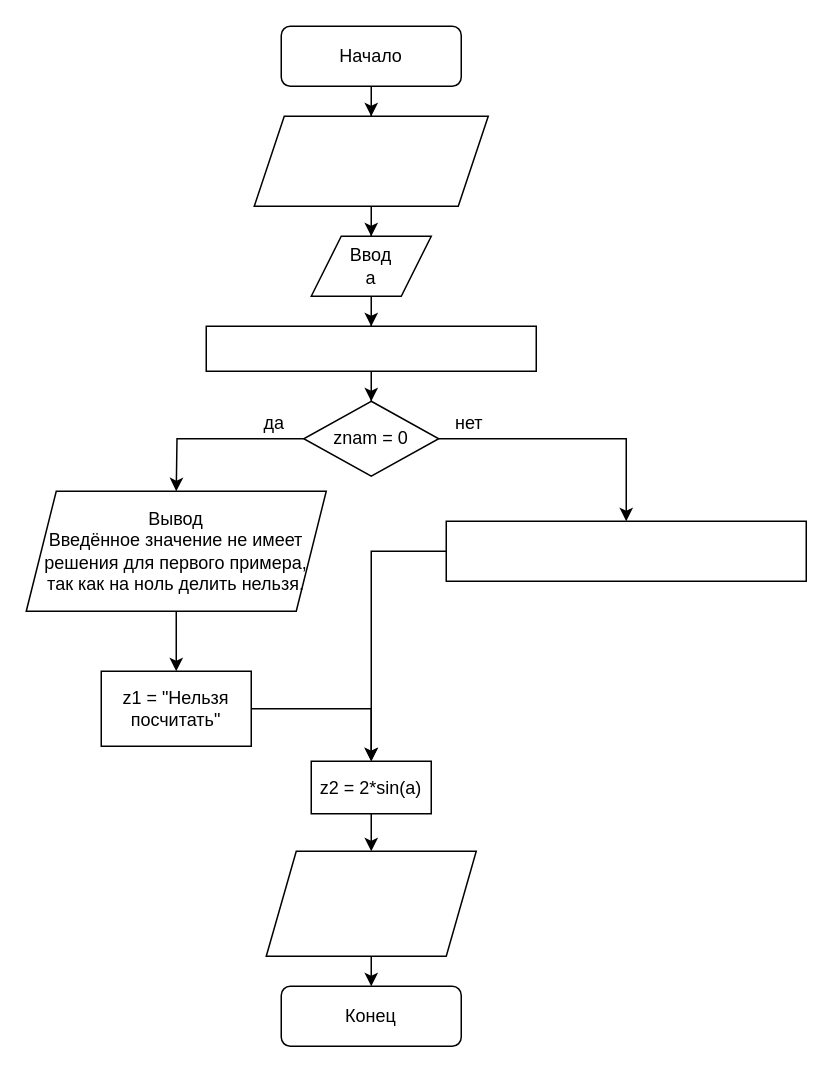
Some shapes in this 833 by 1073 pixel diagram are drawn without their labels. Each missing label, with the centre of its shape:
z1 = (sin(2*a) + sin(5*a) - sin(3*a)) / znam: (625,550)
znam = cos(a) + 1 - 2 * (sin(2*a)**2): (370,348)
Вывод Введите значение a:: (370,160)
Вывод Результаты работы программ: z1,z2: (370,903)
